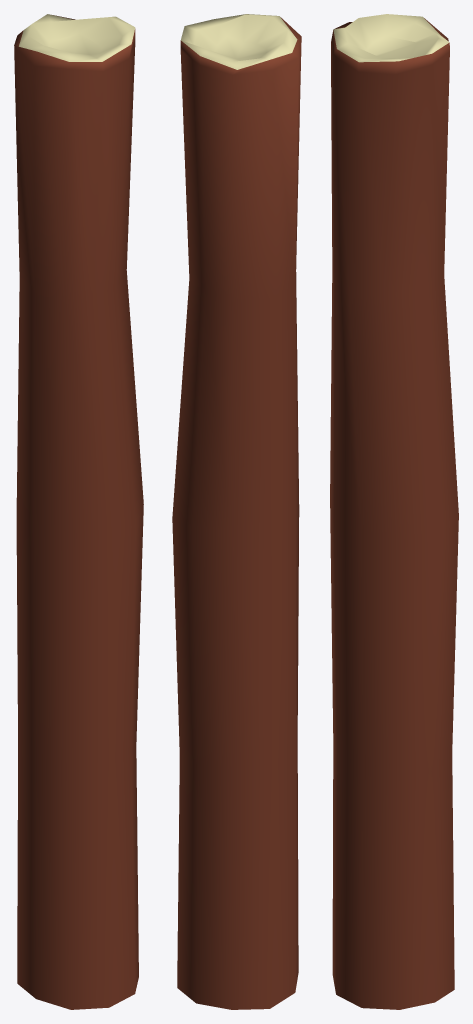
File: WoodFencePost.fbx
3 renders of one model, left to right at view 1: azimuth 30°, elevation 25°; view 2: azimuth 210°, elevation 25°; view 3: azimuth 330°, elevation 25°, orthographic.
Visible parts, largest first — view 1: Cylinder.007; view 2: Cylinder.007; view 3: Cylinder.007.
Boxes of the visible parts, <box> form: Cylinder.007: <box>14,14,143,1009</box>; Cylinder.007: <box>172,14,301,1009</box>; Cylinder.007: <box>330,14,458,1009</box>.
Size of the model in its own units: 33.99 by 282 by 34.42.
